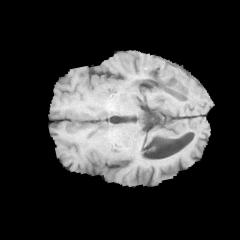glioma: (140, 53, 200, 101)
